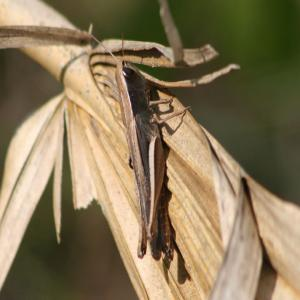locust: (90, 25, 197, 282)
